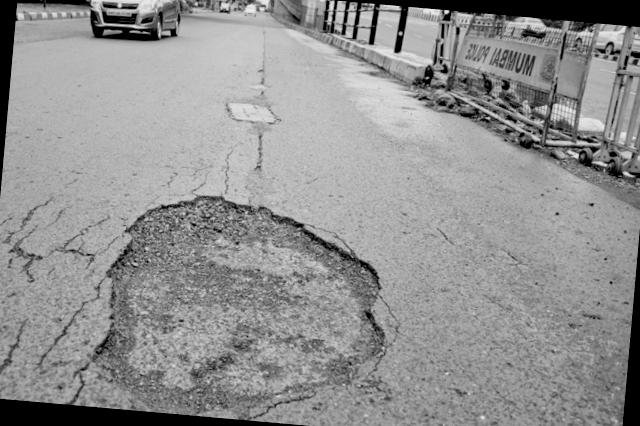Pothole: (66, 170, 395, 426)
